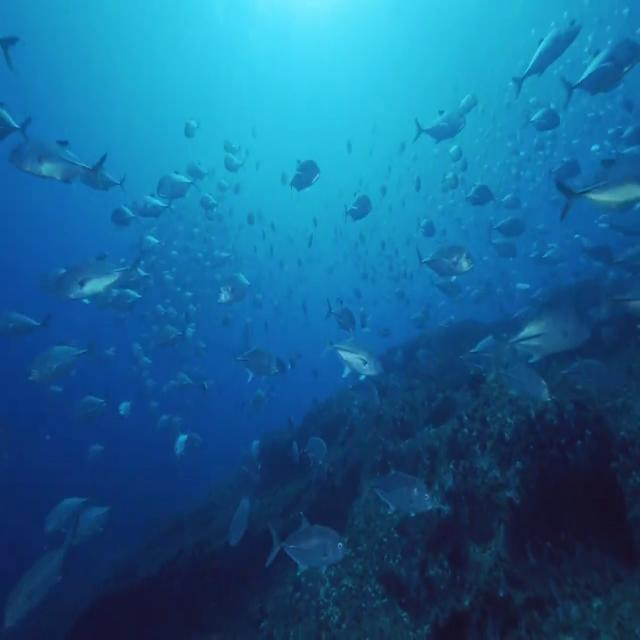fish: (510, 15, 588, 97), (564, 38, 640, 106), (10, 136, 106, 183), (555, 167, 640, 219)
